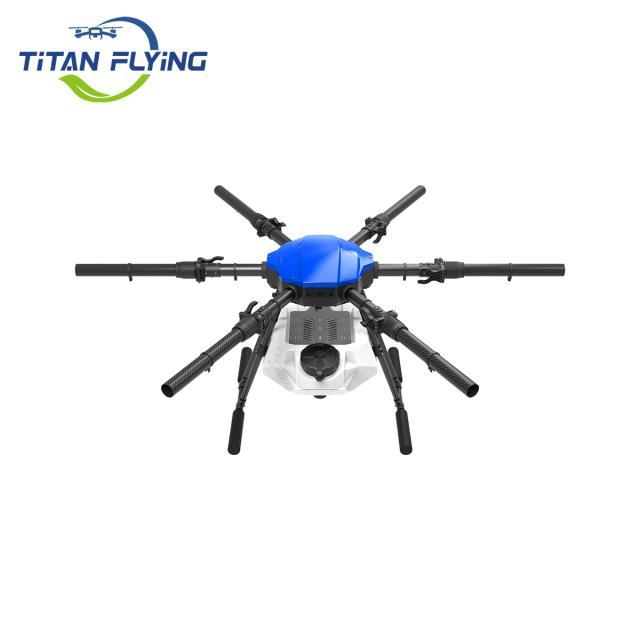drone: (40, 168, 580, 475)
